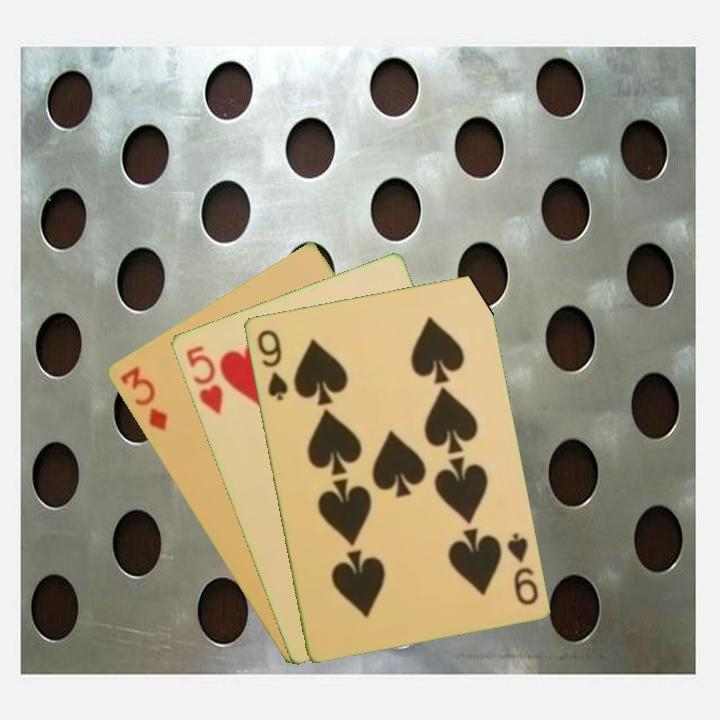3d: (115, 363, 170, 434)
5h: (181, 341, 226, 417)
9s: (503, 529, 541, 608), (253, 326, 291, 404)
